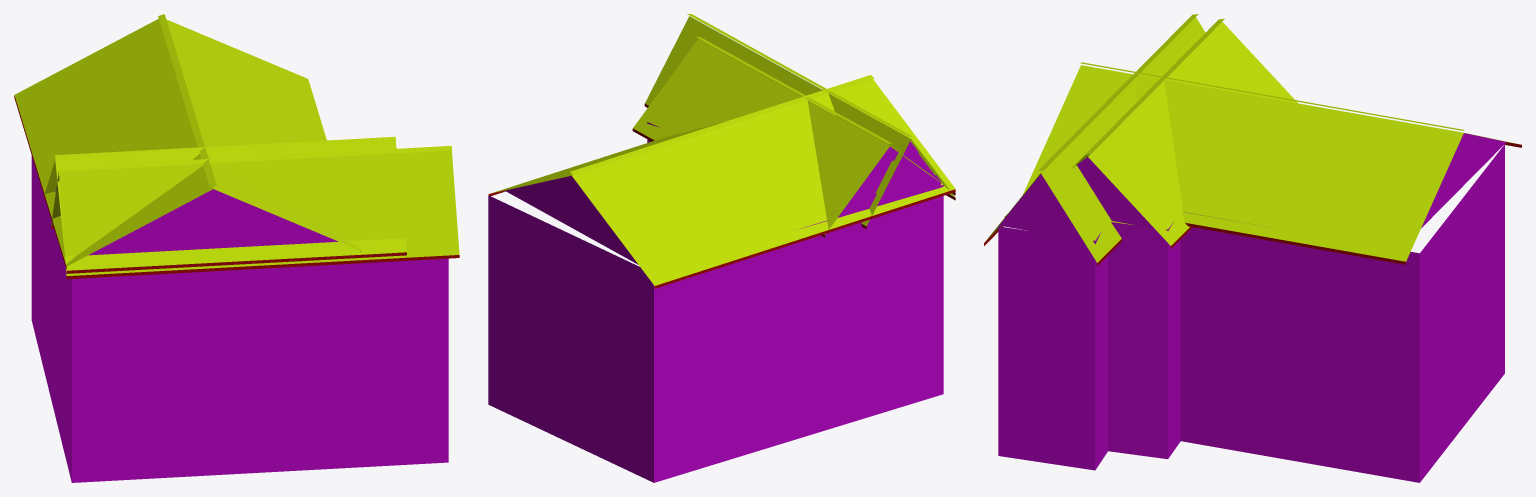
The model's file is bgj_330.glb.
3 views of the same model, side by side, from view 1: azimuth 30°, elevation 25°; view 2: azimuth 150°, elevation 25°; view 3: azimuth 270°, elevation 25° (orthographic). The views are drawn at different scales.
Visible parts, largest first — view 1: bgj_330; view 2: bgj_330; view 3: bgj_330.
Boxes of the visible parts, x1,y1,x2,y2 form: bgj_330: [14, 14, 459, 482]; bgj_330: [488, 14, 955, 482]; bgj_330: [984, 14, 1521, 482].
Size of the model in its own units: 15.2 by 11.43 by 18.7.
